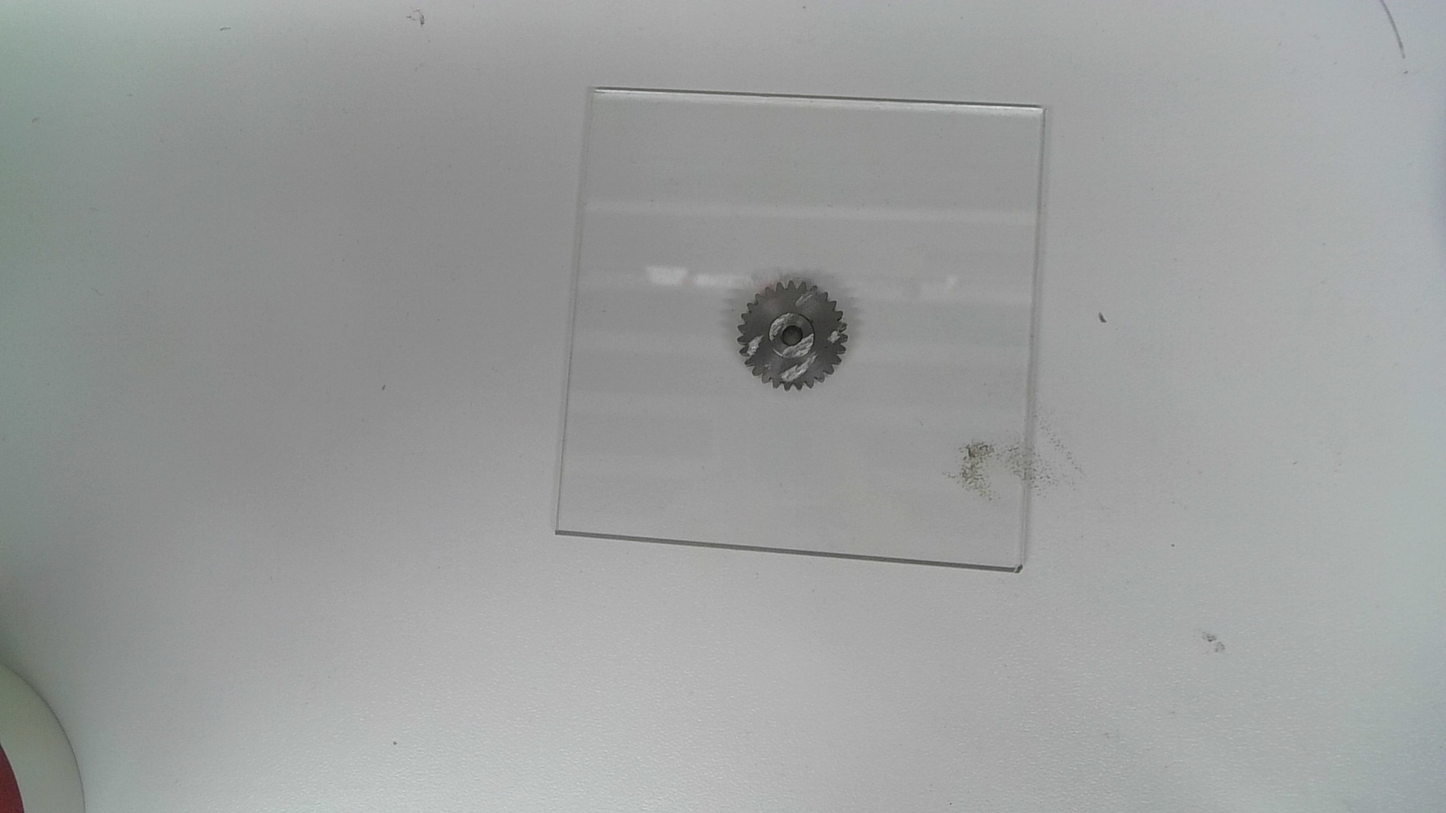gear: (734, 277, 850, 395)
